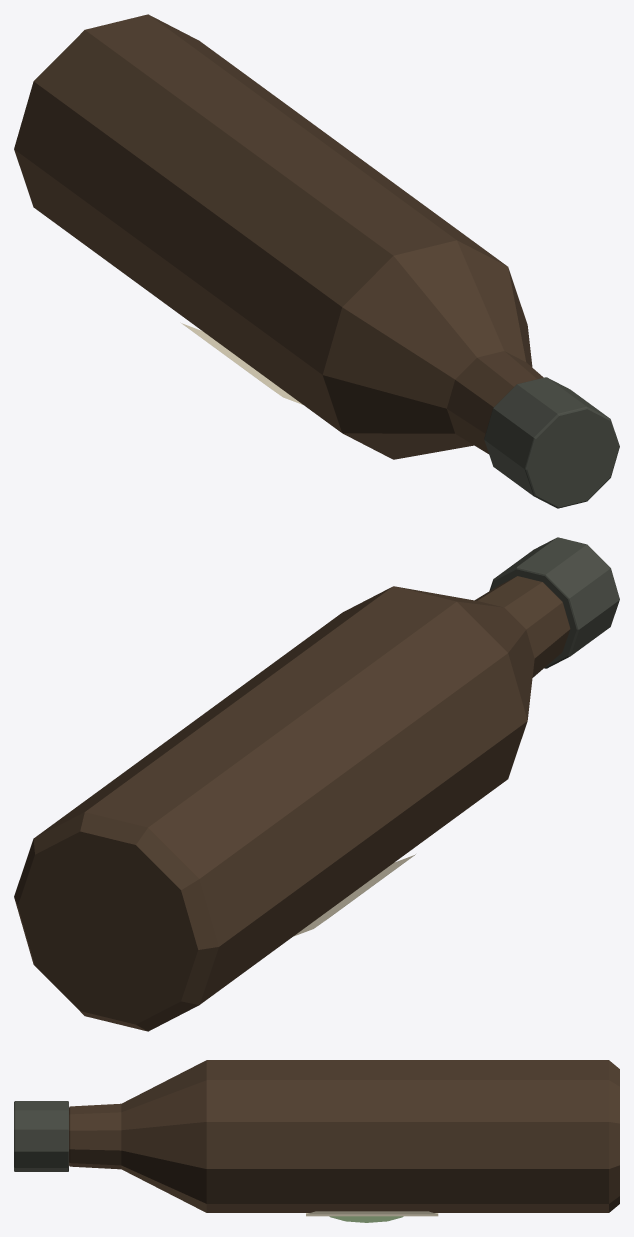
File: kombucha.glb
The picture shows the model from 3 angles, top to bottom: view 1: azimuth 30°, elevation 25°; view 2: azimuth 150°, elevation 25°; view 3: azimuth 270°, elevation 25°; orthographic projection. The views are drawn at different scales.
Visible parts, largest first — view 1: kombucha; view 2: kombucha; view 3: kombucha.
Part boxes in pixels (x1=…): kombucha: x1=14, y1=14, x2=619, y2=508; kombucha: x1=14, y1=537, x2=619, y2=1031; kombucha: x1=14, y1=1060, x2=619, y2=1222.
Size of the model in its own units: 0.056 by 0.0576 by 0.22.
